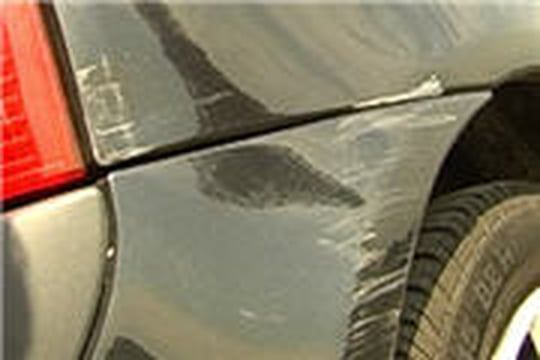scratch: (313, 83, 454, 351)
